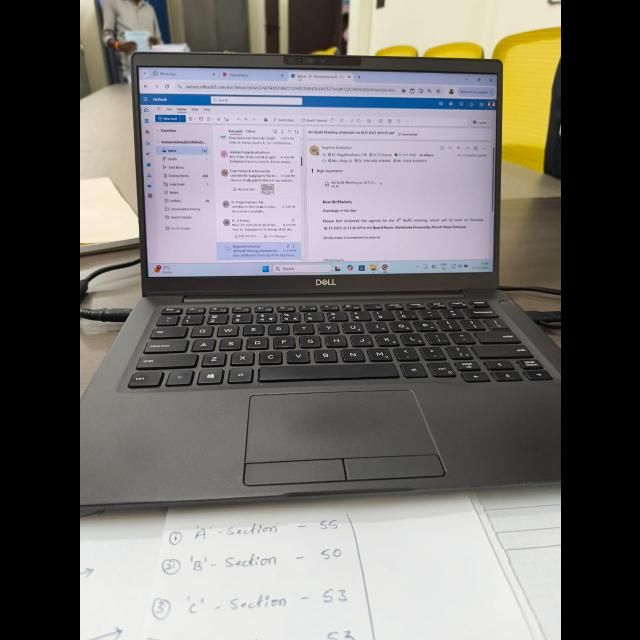laptop: (84, 46, 560, 532)
